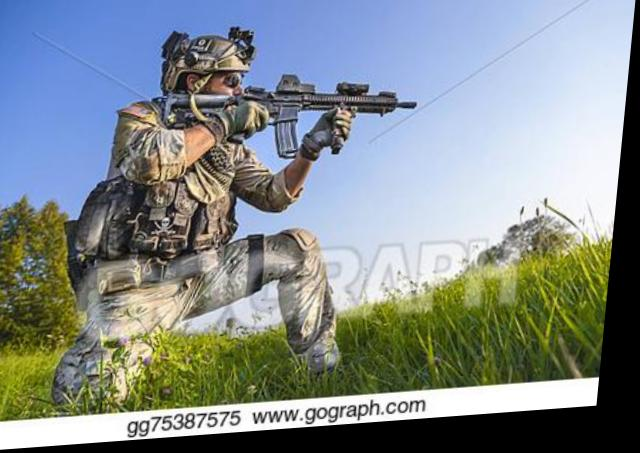other: (87, 31, 342, 387)
